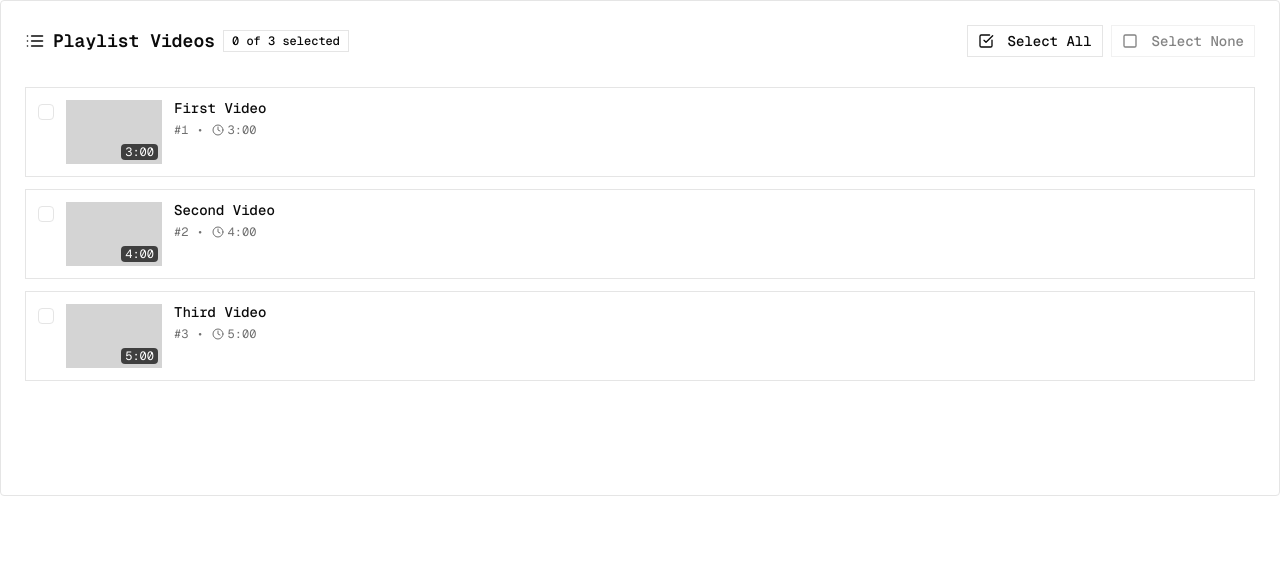
Scenario: PlaylistViewer › shows selection summary when videos are selected
Select first video
Click the checkbox next to "Second Video" at (46, 214), box x1=38 y1=206 x2=54 y2=222
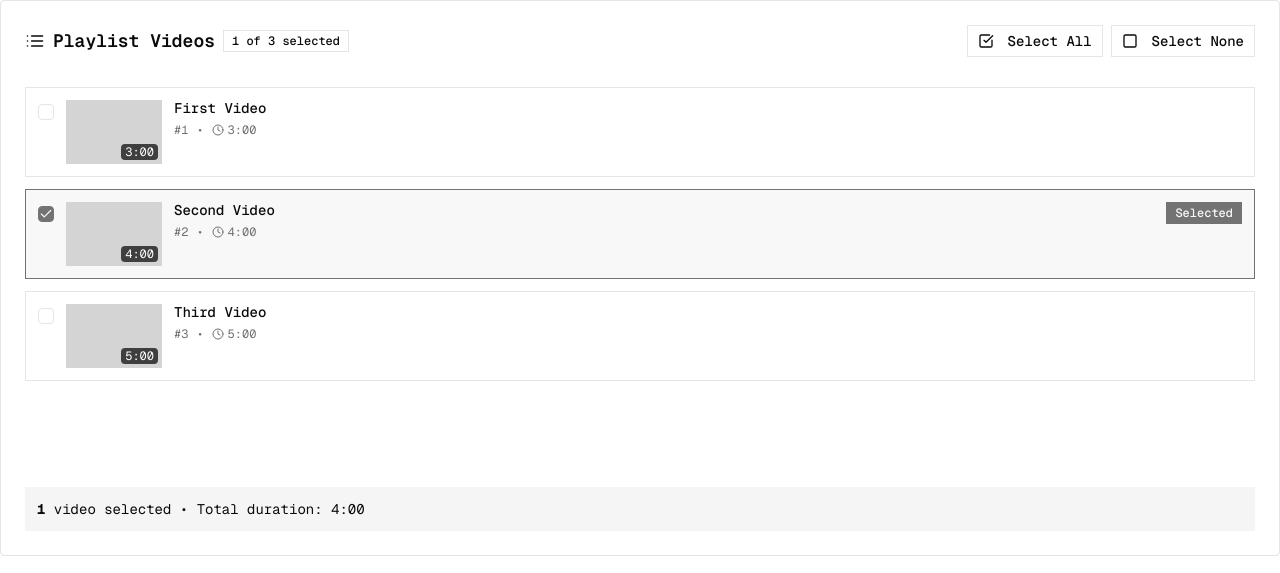
Result: the text "1 of 3 selected" is shown at x1=223 y1=30 x2=349 y2=52
